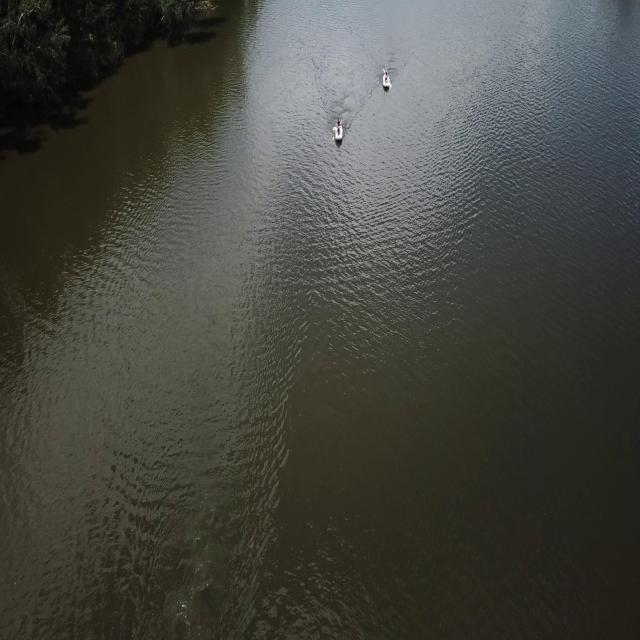kayak: (332, 118, 346, 144), (380, 66, 392, 95)
